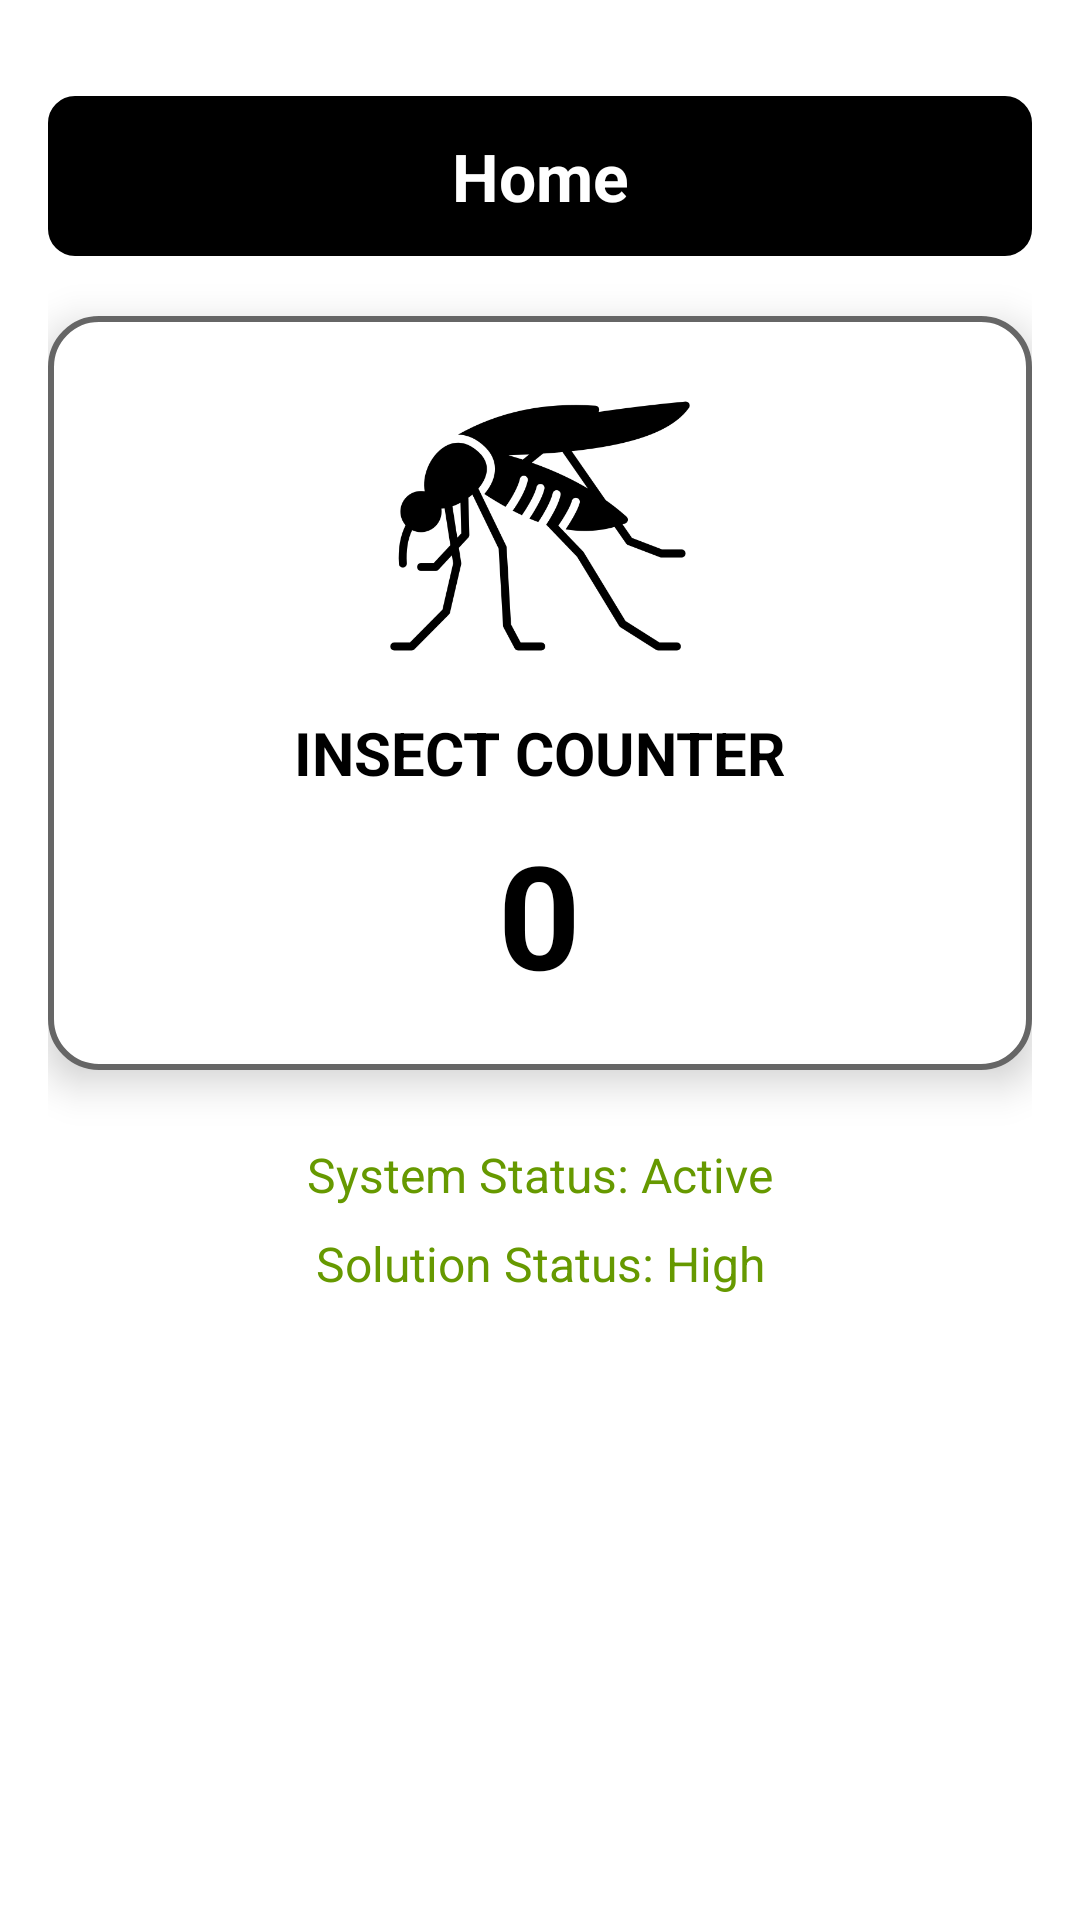

Icon click points for this 1080x1920 phone screenshot, format (x=x, y=y):
mosquito: (x=540, y=526)
